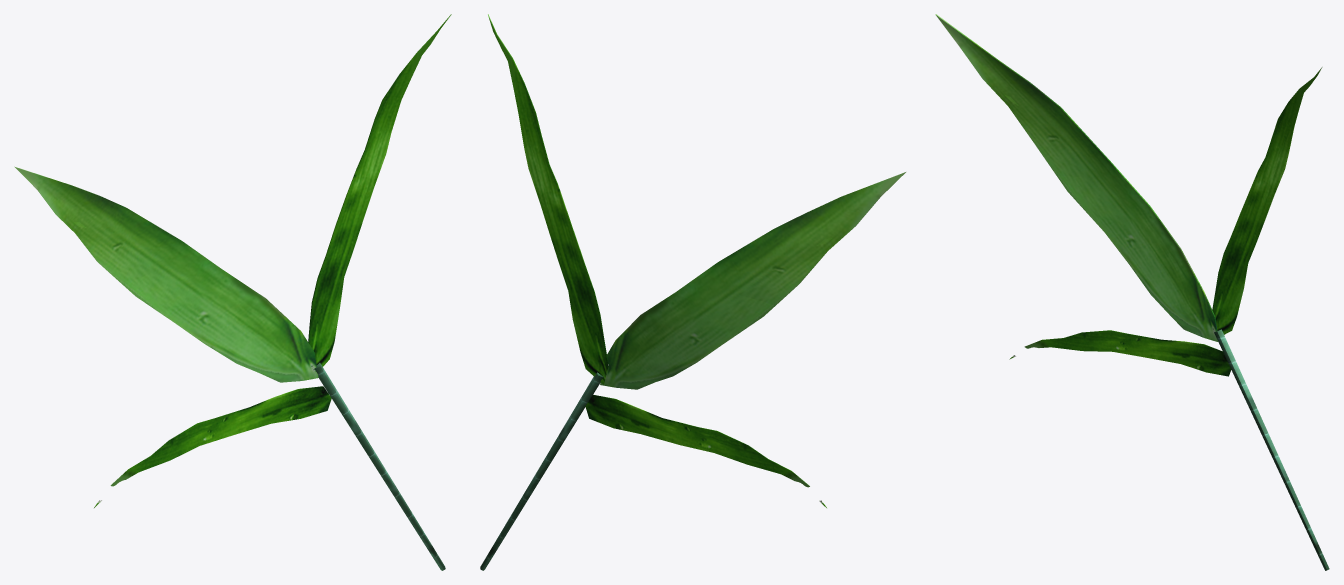
Rendered from bambooWhole.fbx.
The picture shows the model from 3 angles, left to right: view 1: azimuth 30°, elevation 25°; view 2: azimuth 150°, elevation 25°; view 3: azimuth 330°, elevation 25°; orthographic projection. The views are drawn at different scales.
Parts seen in each view (by area): view 1: polySurface1, polySurface3, polySurface4, pCylinder1; view 2: polySurface1, polySurface3, polySurface4, pCylinder1; view 3: polySurface1, polySurface3, polySurface4, pCylinder1.
Boxes of the visible parts, box(x1,y1,x2,y2) form: polySurface1: box(14, 166, 318, 382); polySurface3: box(308, 14, 451, 366); polySurface4: box(94, 386, 331, 507); pCylinder1: box(314, 363, 445, 570); polySurface1: box(600, 172, 905, 389); polySurface3: box(488, 14, 608, 384); polySurface4: box(585, 394, 826, 507); pCylinder1: box(480, 372, 602, 570); polySurface1: box(935, 14, 1218, 341); polySurface3: box(1212, 67, 1322, 334); polySurface4: box(1009, 330, 1231, 376); pCylinder1: box(1214, 329, 1329, 570).
Size of the model in its own units: 32.53 by 40.3 by 2.8.
4 materials, 4 textured.
